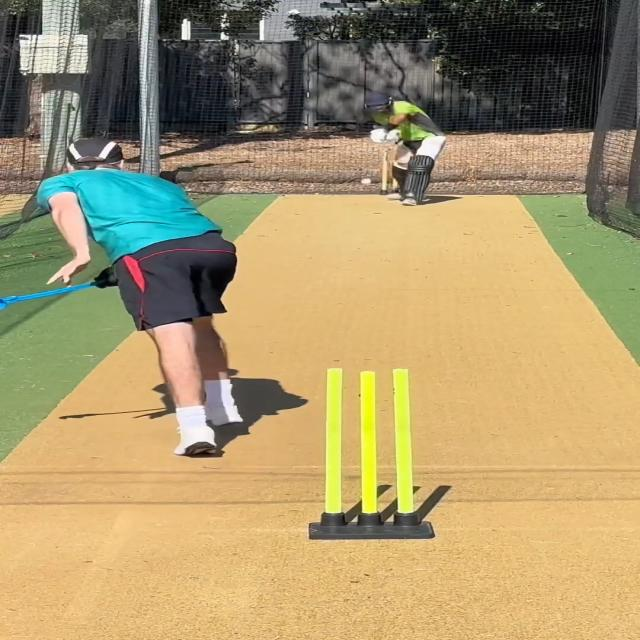stump: (307, 367, 435, 540)
